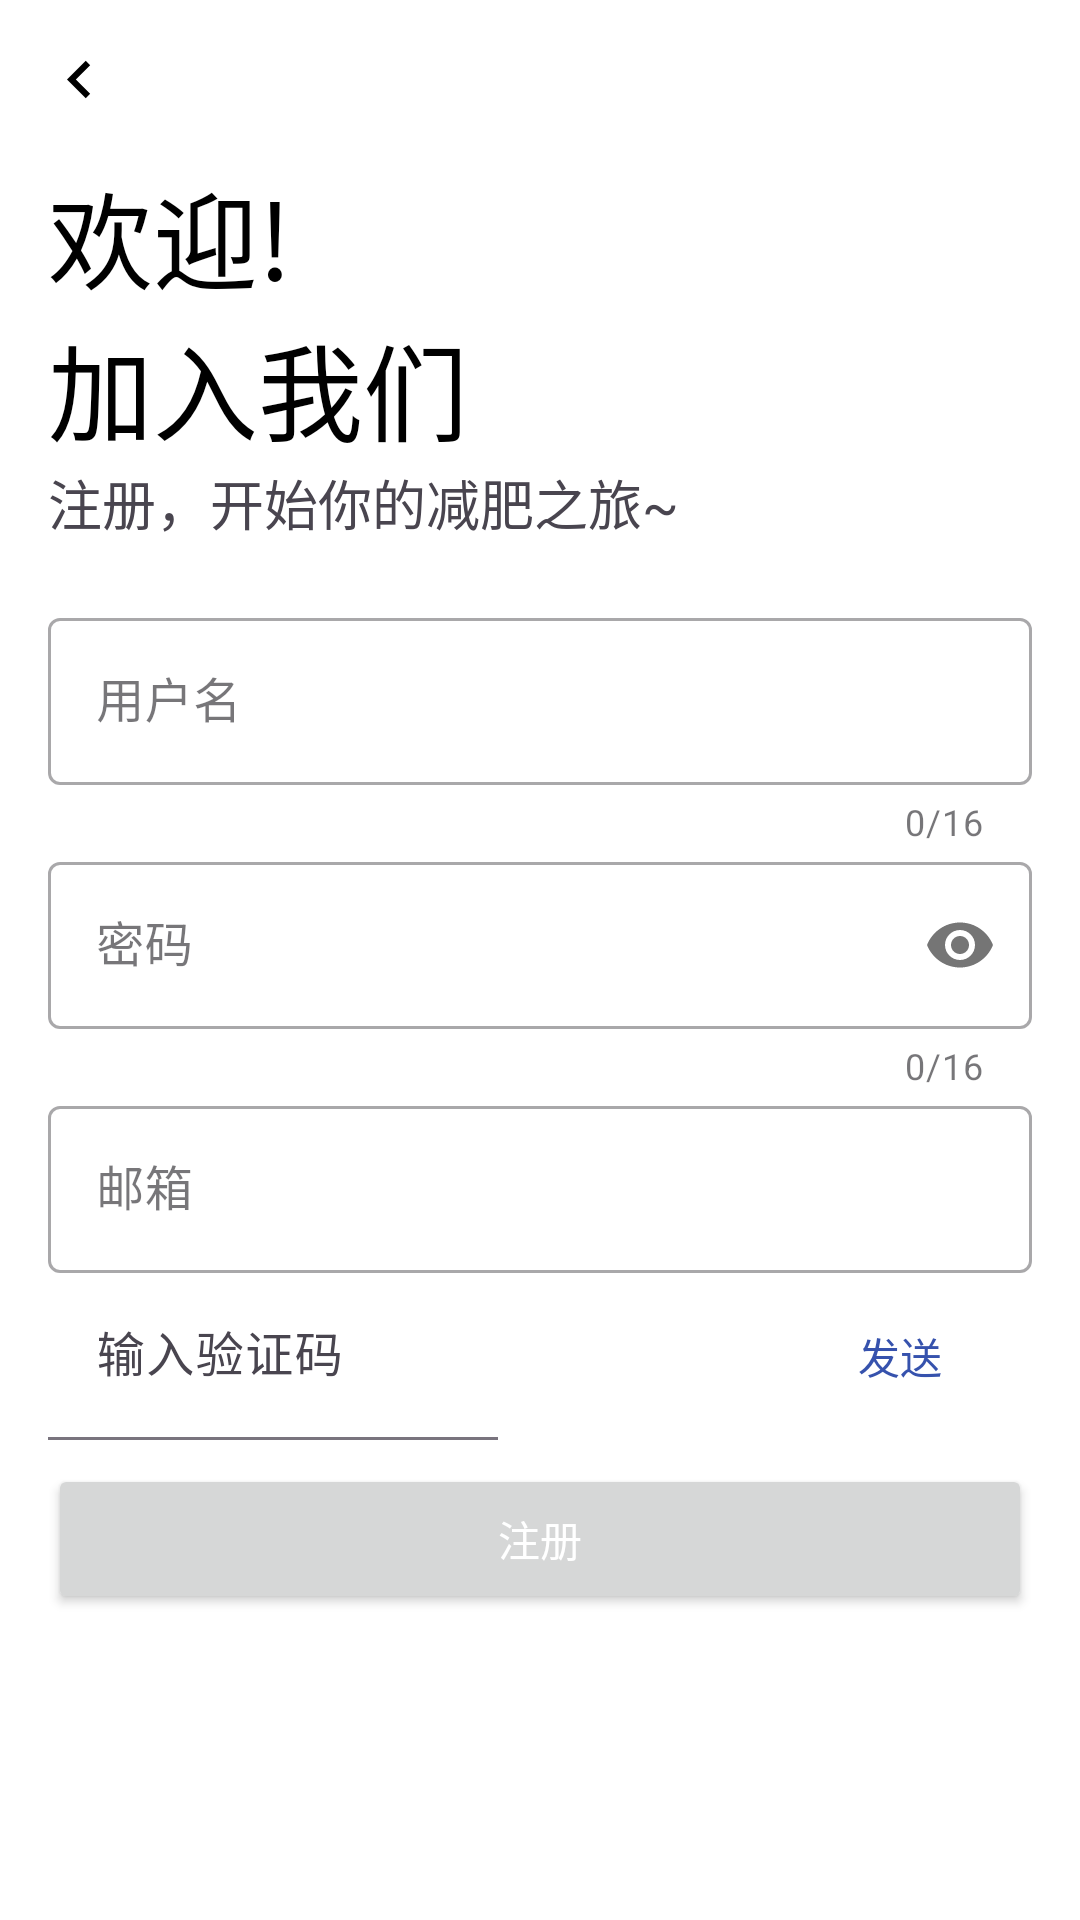

Named icons in this screenshot (1080px x 1920px) and their centers, point (x, y):
back: point (78, 79)
